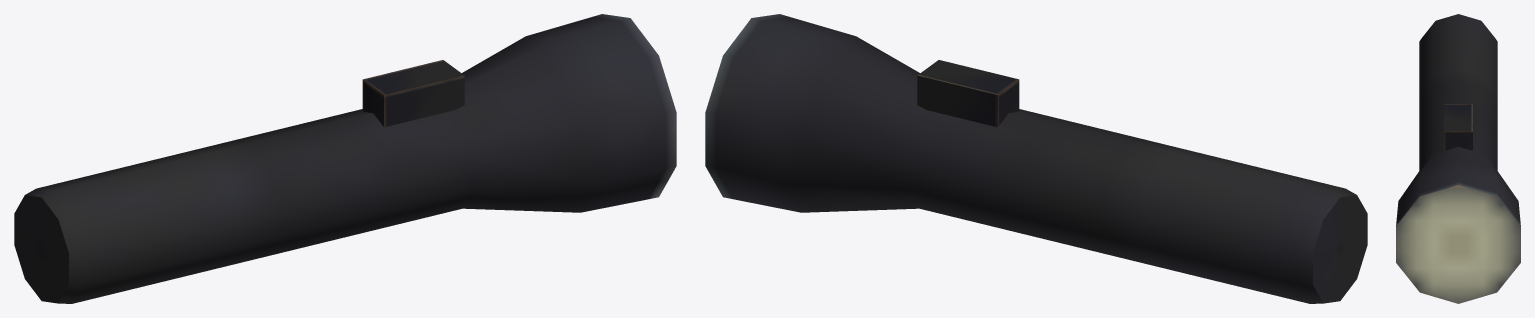
The model's file is flashlight.obj.
The picture shows the model from 3 angles, left to right: view 1: azimuth 30°, elevation 25°; view 2: azimuth 150°, elevation 25°; view 3: azimuth 270°, elevation 25°; orthographic projection. The views are drawn at different scales.
Parts seen in each view (by area): view 1: flashlight; view 2: flashlight; view 3: flashlight.
Part boxes in pixels (left/top/right/bottom): flashlight: left=14, top=14, right=676, bottom=303; flashlight: left=705, top=14, right=1367, bottom=303; flashlight: left=1396, top=14, right=1520, bottom=303.
Bounding box in the file's own units: 0.19 × 0.054 × 0.0514.
1 material, 1 textured.
